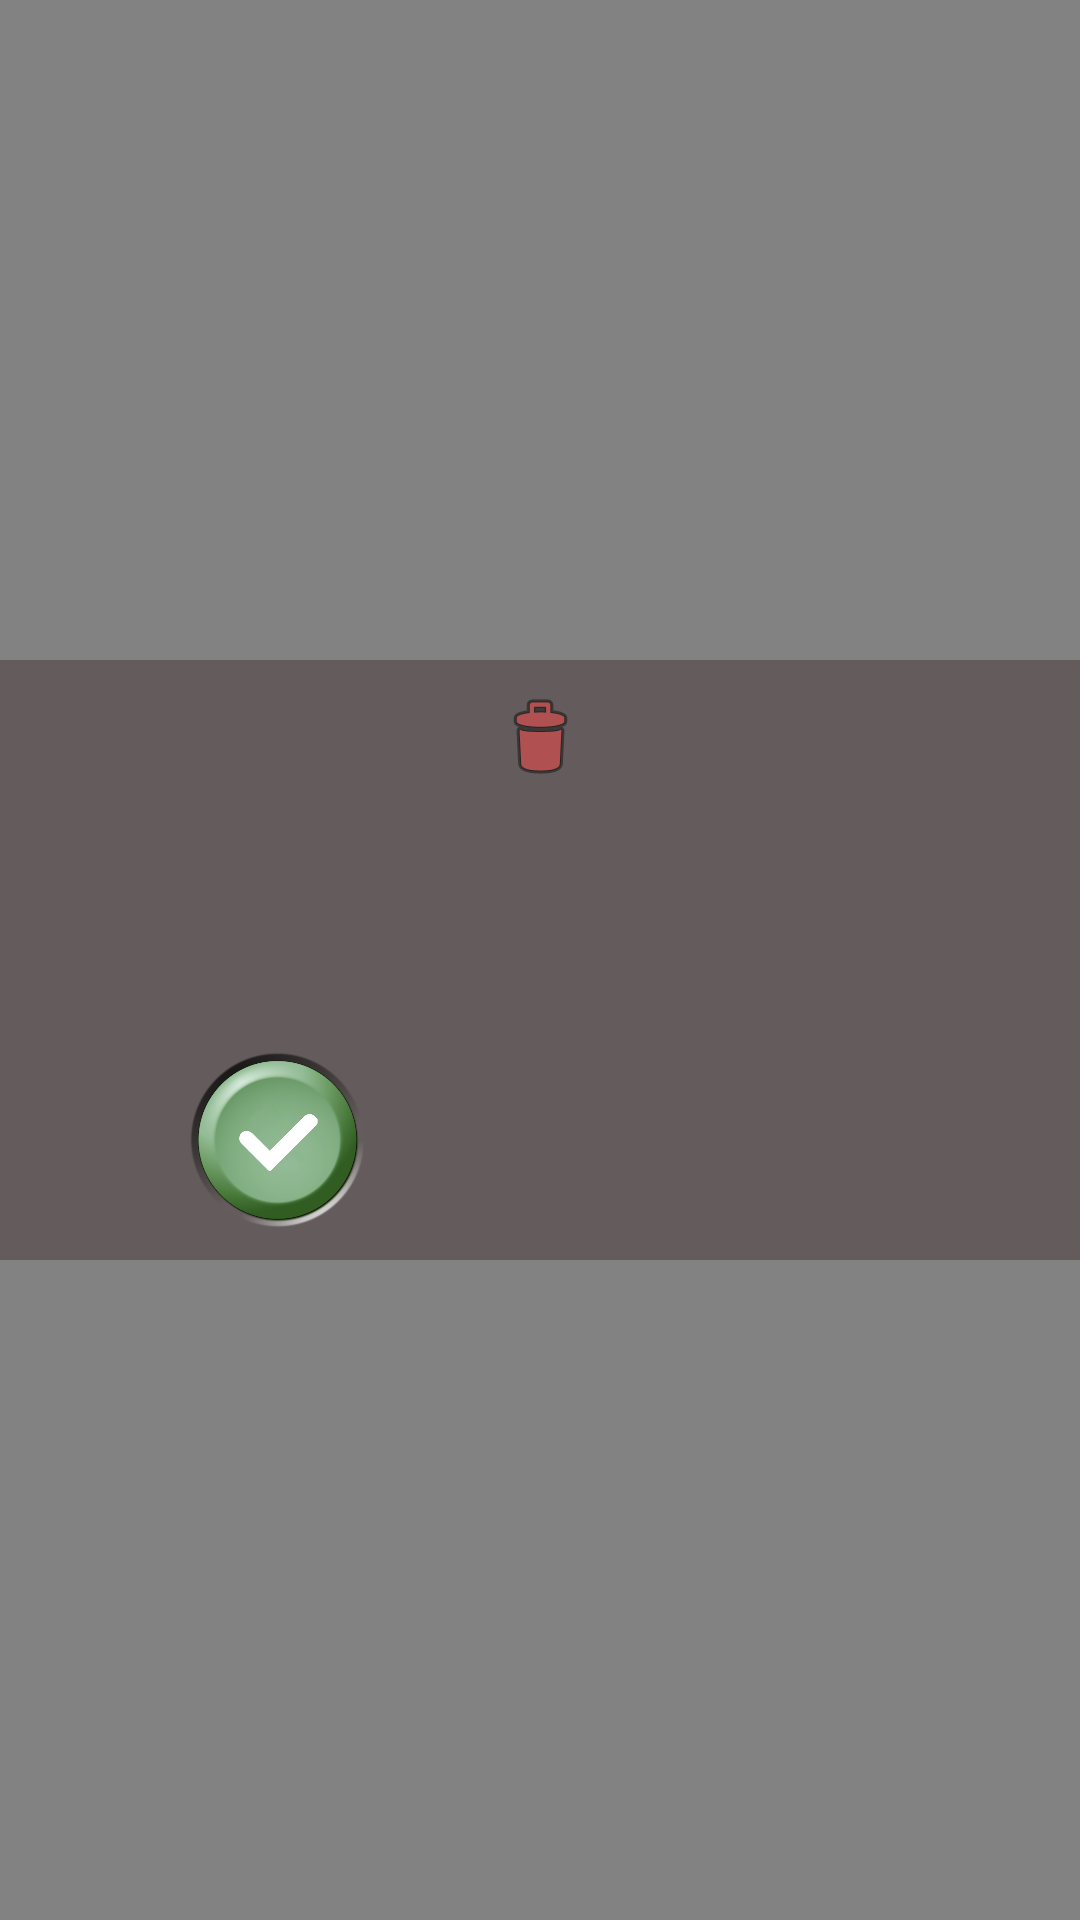

Screen size 1080px×1920px. Icon name, then its center in pixels as [x,y]:
okbtn: [276,1140]
